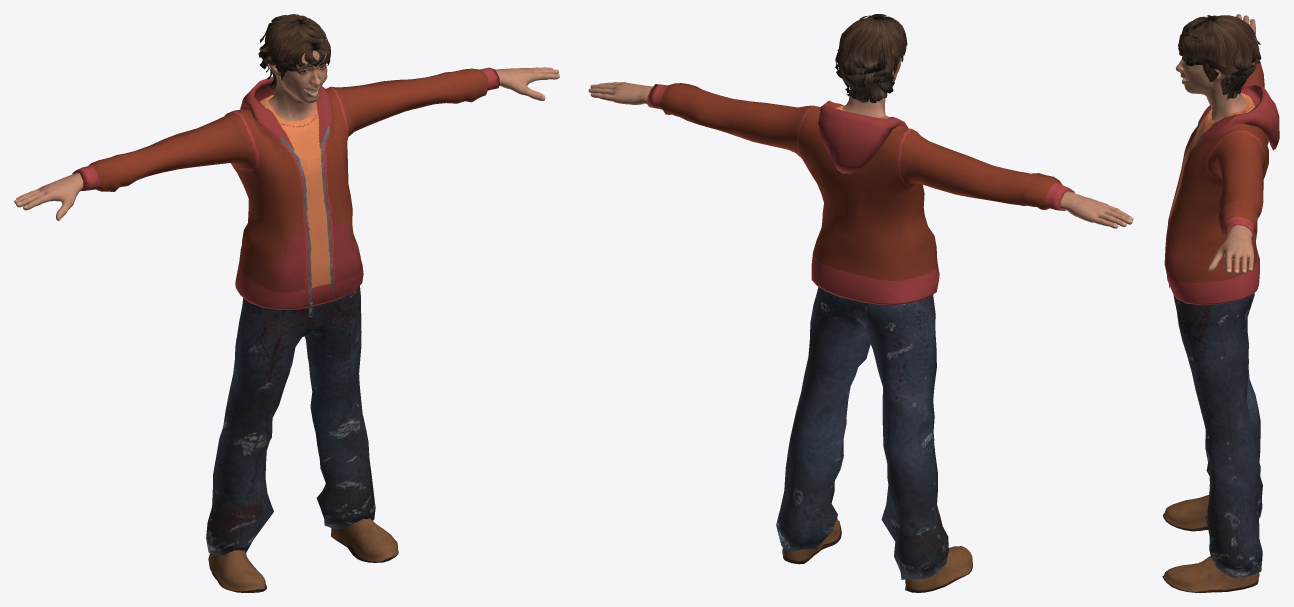
The model's file is goofy.obj.
3 renders of one model, left to right at view 1: azimuth 30°, elevation 25°; view 2: azimuth 150°, elevation 25°; view 3: azimuth 270°, elevation 25°, orthographic.
Parts seen in each view (by area): view 1: Tops, Bottoms, BodyParts, Shoes, Hair; view 2: Tops, Bottoms, Hair, BodyParts, Shoes; view 3: Tops, Bottoms, Hair, BodyParts, Shoes.
Part boxes in pixels (x1,y1,x2,y2): Tops: (72, 67, 499, 316); Bottoms: (206, 286, 375, 555); BodyParts: (14, 50, 559, 220); Shoes: (208, 489, 398, 592); Hair: (258, 14, 330, 89); Tops: (647, 83, 1074, 305); Bottoms: (776, 287, 948, 579); Hair: (835, 14, 907, 102); BodyParts: (588, 59, 1133, 228); Shoes: (782, 509, 972, 592); Tops: (1164, 58, 1279, 305); Bottoms: (1173, 293, 1262, 578); Hair: (1178, 15, 1261, 99); BodyParts: (1175, 14, 1255, 274); Shoes: (1162, 495, 1259, 592).
Bounding box in the file's own units: 187 × 180 × 35.54.
